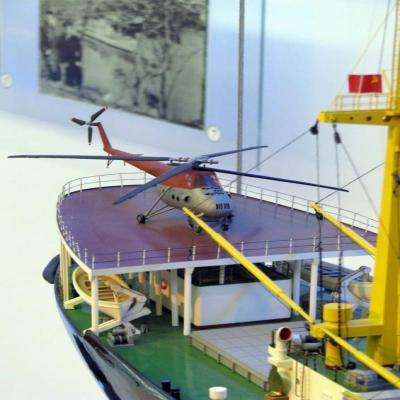other: (42, 110, 400, 400)
